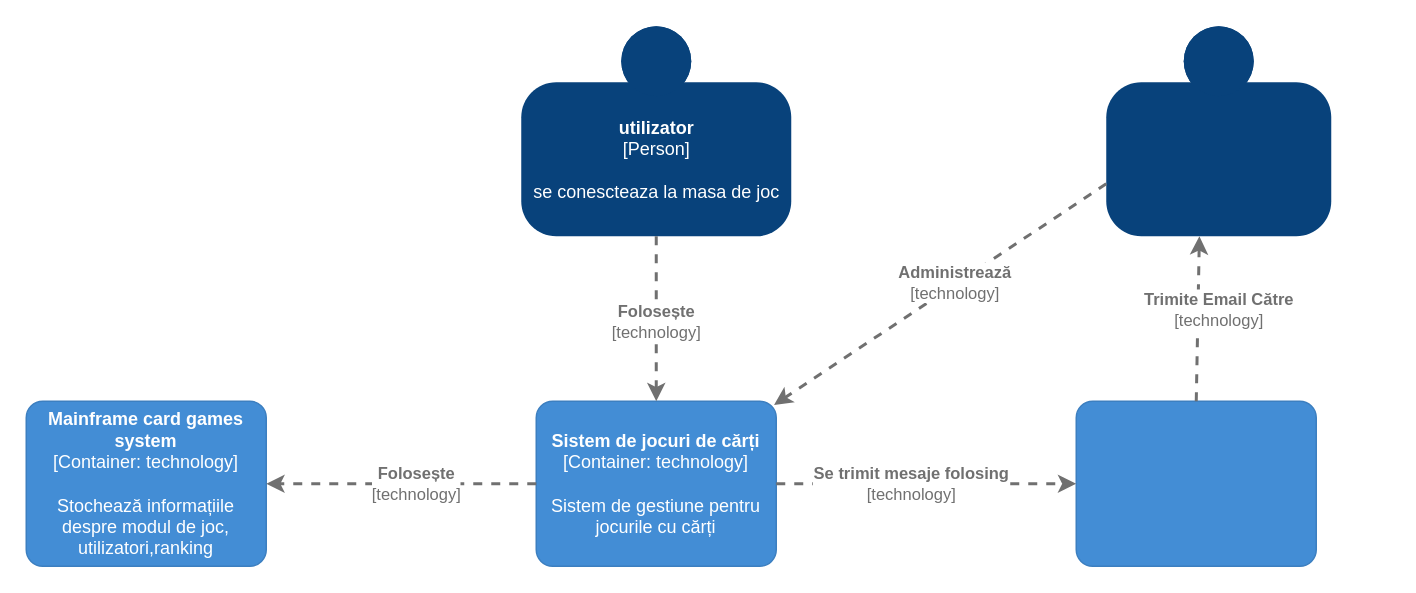
Some shapes in this 1416 by 593 pixel diagram are drawn without their labels. Here are the shapes that lost their labels. From the top down, the box of each, then its label:
(1106, 26, 1330, 236): un administrator pentru sistemul nostru [Person] Administrator
(1075, 400, 1316, 566): Sistem de mesaje [Container: technology] Message user system
